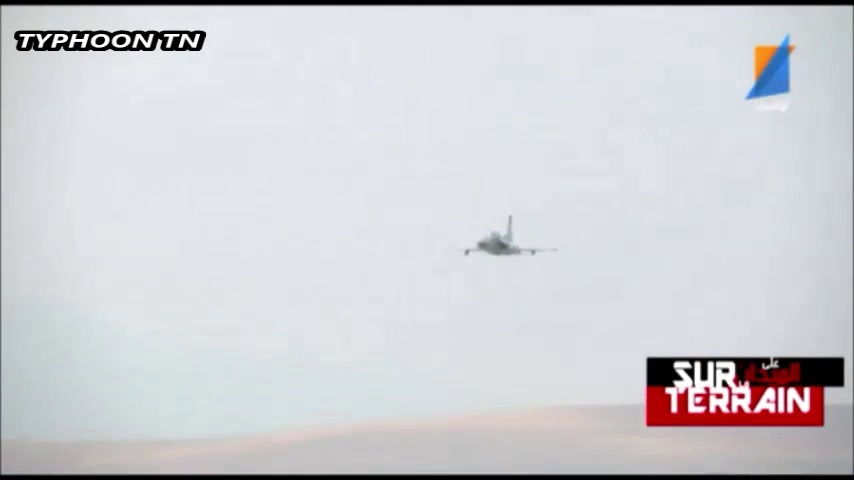Airplane: (462, 213, 554, 259)
